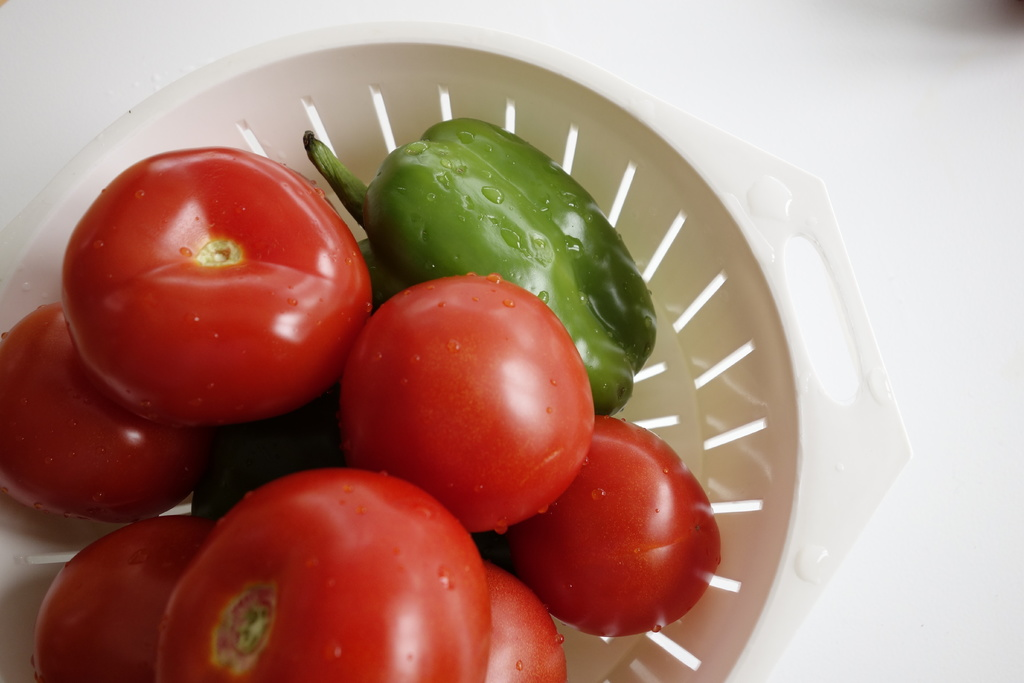Tomato: (61, 141, 378, 426), (150, 461, 497, 682), (341, 265, 595, 531), (502, 409, 727, 636), (0, 301, 206, 532), (24, 517, 230, 682), (478, 567, 570, 681)
